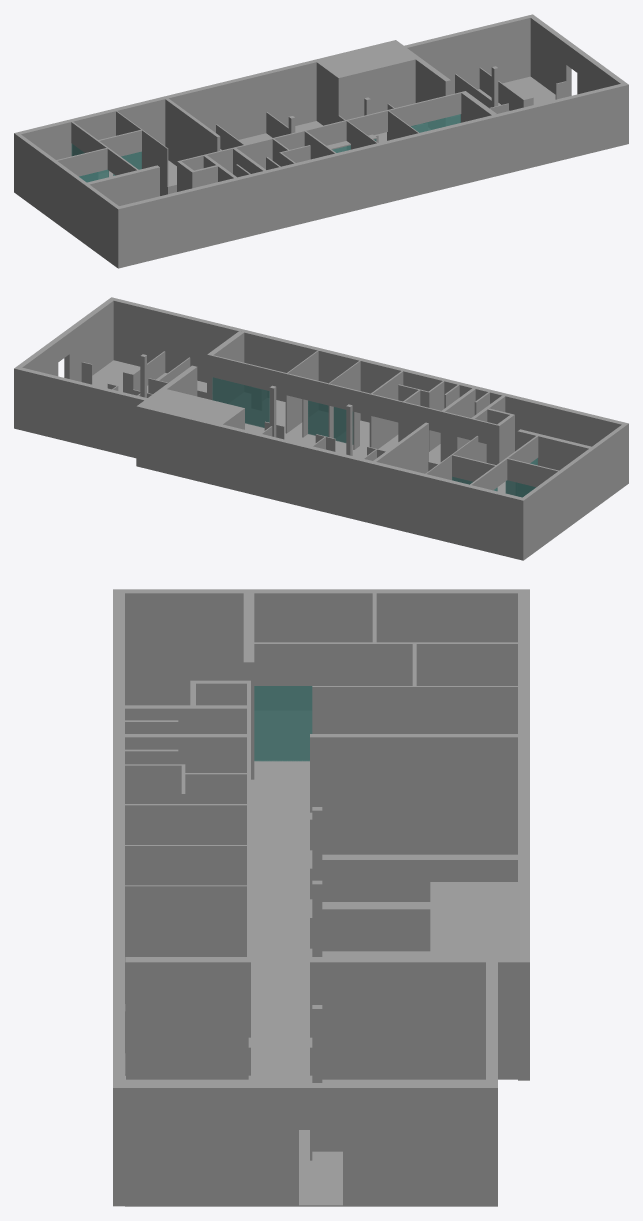
The model's file is Prismart_layout.fbx.
3 renders of one model, top to bottom at view 1: azimuth 30°, elevation 25°; view 2: azimuth 150°, elevation 25°; view 3: azimuth 270°, elevation 25°, orthographic. The views are drawn at different scales.
Parts seen in each view (by area): view 1: boundry_wall, cabin_wall, glass; view 2: boundry_wall, cabin_wall, glass; view 3: boundry_wall, cabin_wall, glass.
Part boxes in pixels (x1,y1,x2,y2): boundry_wall: (14, 14, 628, 268); cabin_wall: (56, 67, 566, 195); glass: (71, 114, 460, 182); boundry_wall: (14, 297, 628, 560); cabin_wall: (81, 350, 558, 493); glass: (212, 377, 537, 497); boundry_wall: (113, 589, 529, 1206); cabin_wall: (125, 593, 517, 1206); glass: (254, 686, 312, 761).
Bounding box in the file's own units: 99.1 × 10.99 × 35.
